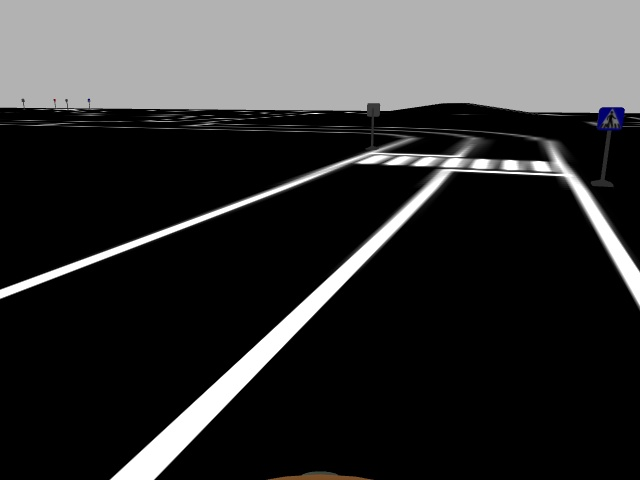crosswalk: (595, 103, 627, 134)
